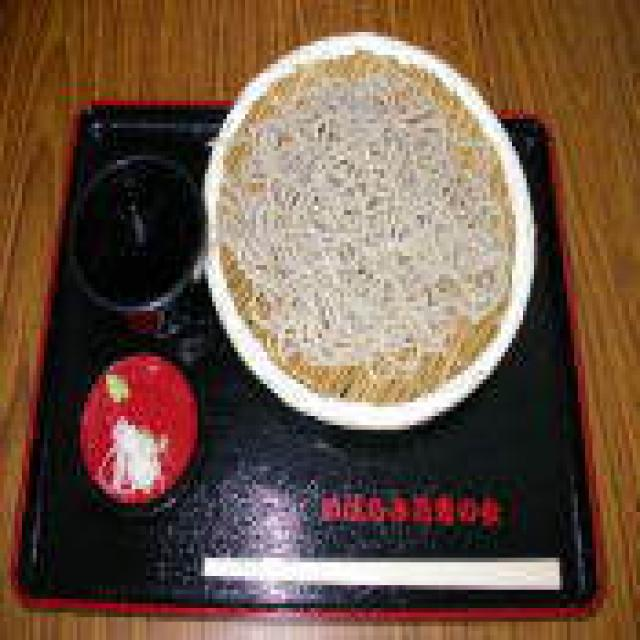面条主食: (179, 9, 545, 430)
